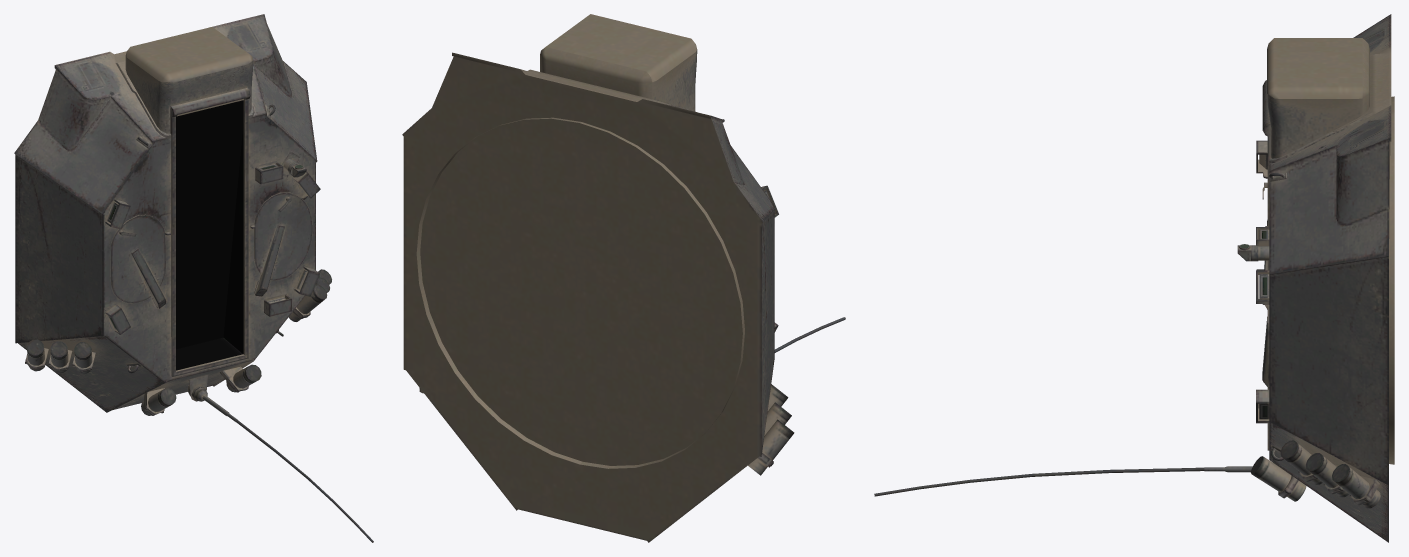
File: Turret_02.glb
3 renders of one model, left to right at view 1: azimuth 30°, elevation 25°; view 2: azimuth 150°, elevation 25°; view 3: azimuth 270°, elevation 25°, orthographic. The views are drawn at different scales.
Visible parts, largest first — view 1: set_0_group_0; view 2: set_0_group_0; view 3: set_0_group_0.
Part boxes in pixels (<box>): set_0_group_0: <box>14,14,373,542</box>; set_0_group_0: <box>402,14,845,542</box>; set_0_group_0: <box>874,14,1394,542</box>.
Bounding box in the file's own units: 1.9 × 2.22 × 2.33.
1 material, 1 textured.
